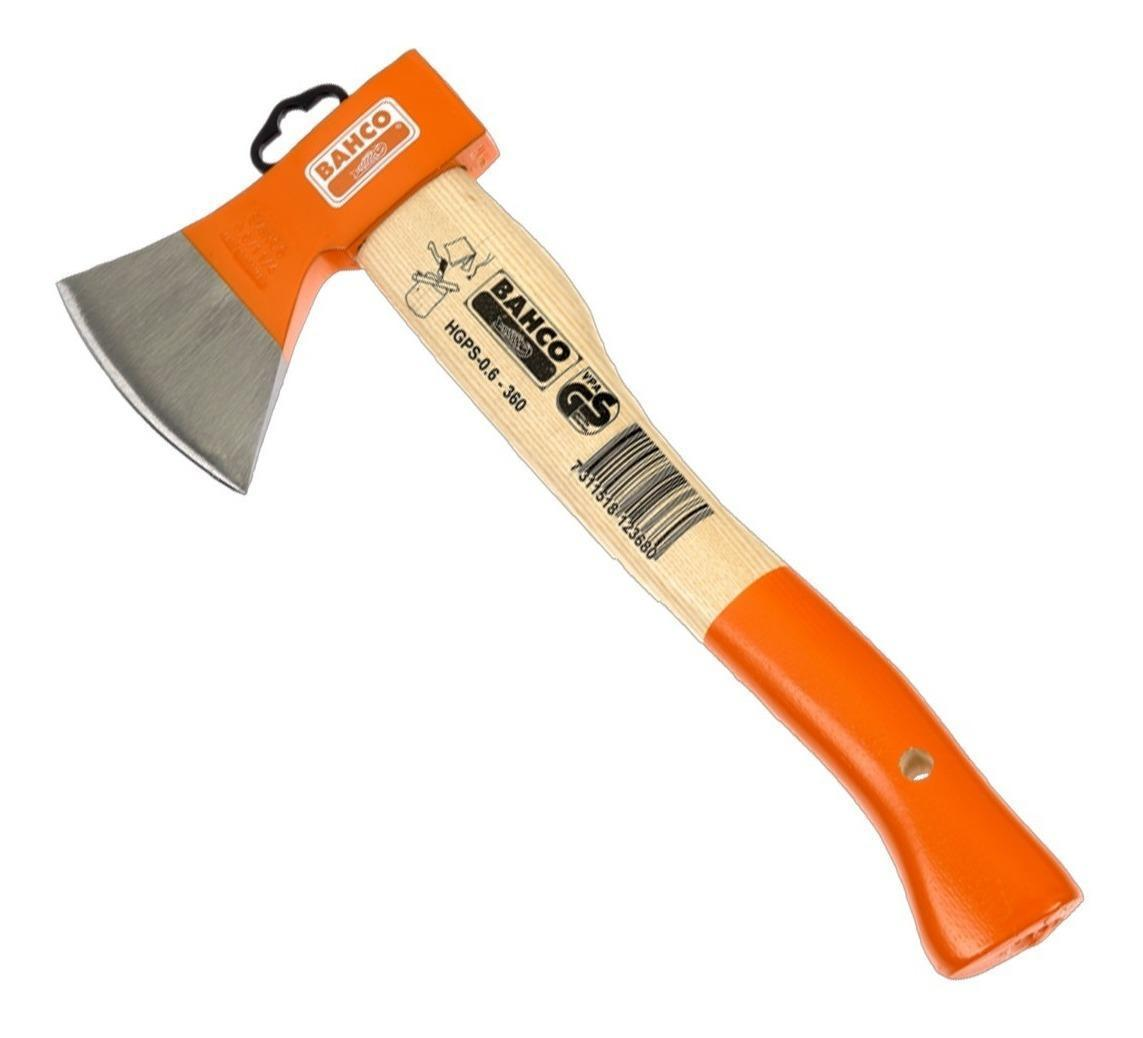machado: (58, 53, 1079, 977)
